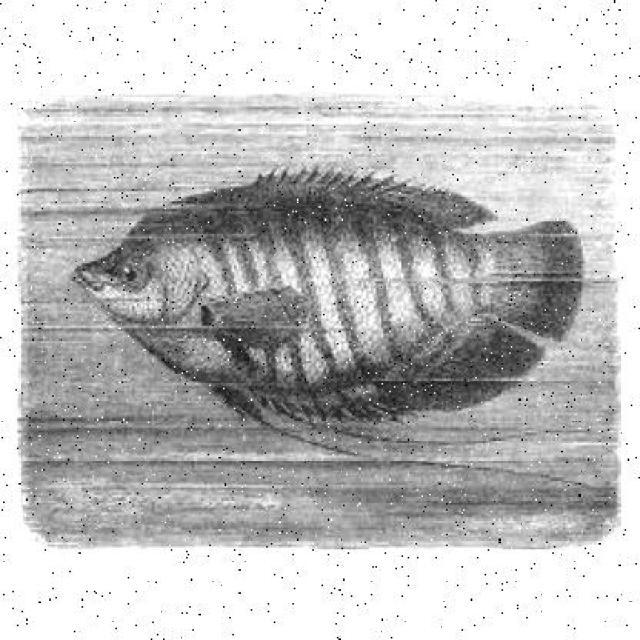gurame: (71, 167, 574, 424)
